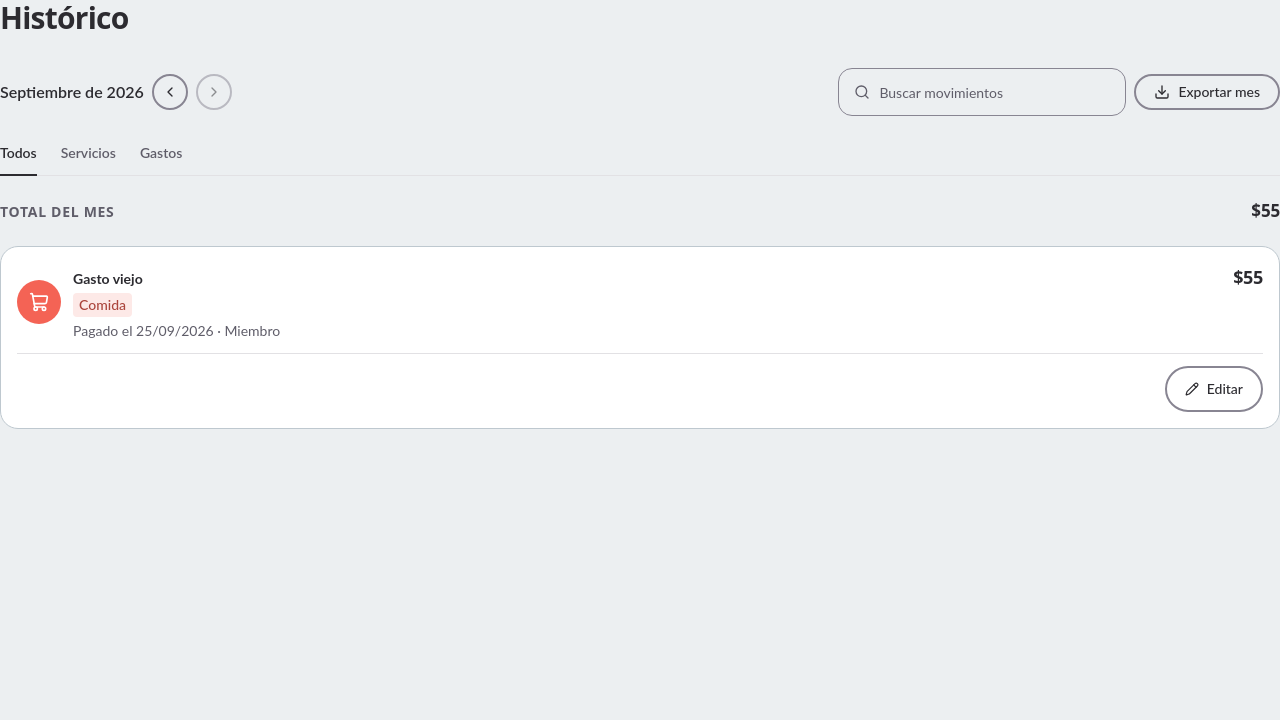
Test: HistoricoPage › opens the shared edit sheet for an expense from a past month
Click the button with aria-label "Editar Gasto viejo". click: click(1214, 389)
box: left=1165, top=366, right=1263, bottom=412
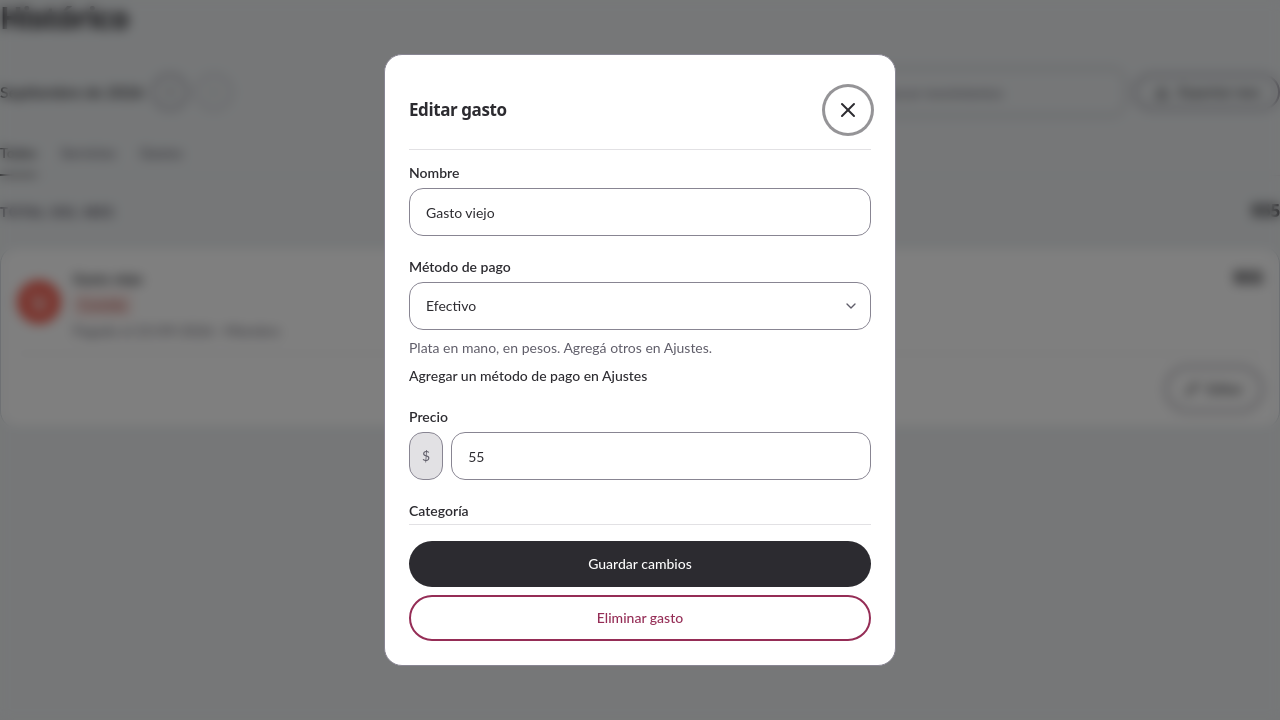
Expected: the field labelled "Nombre" holds "Gasto viejo", left=409, top=188, right=871, bottom=236
Expected: the field labelled "Precio" holds "55", left=451, top=432, right=871, bottom=480
Expected: the button "Guardar cambios" is shown, left=409, top=541, right=871, bottom=587
